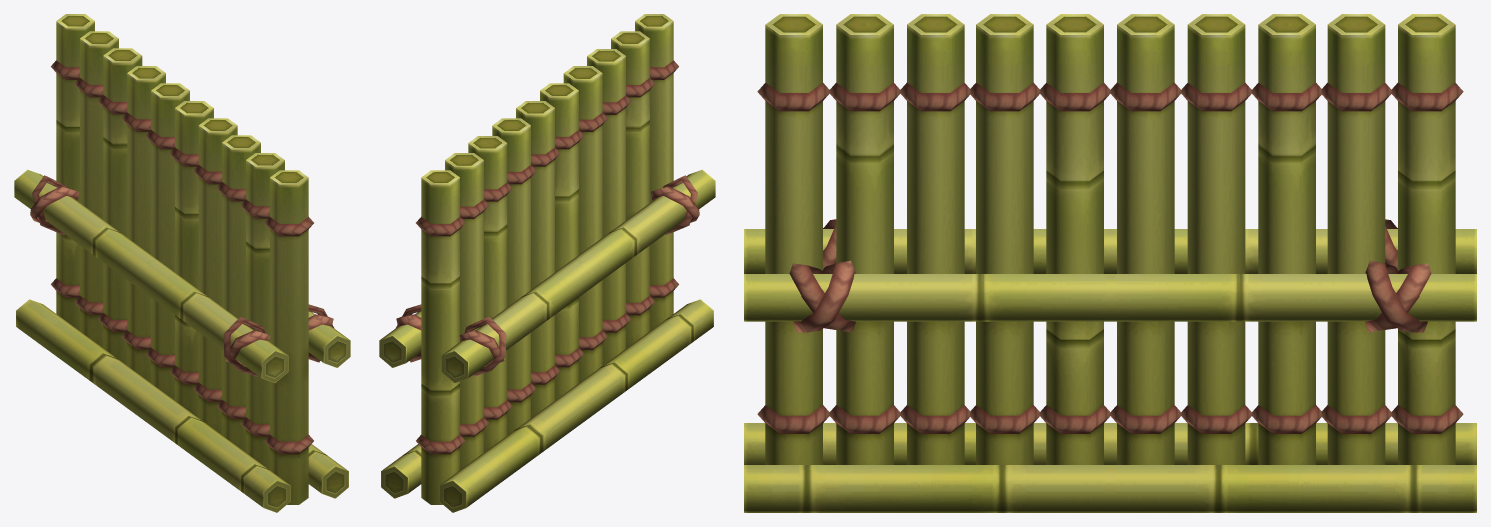
File: my_hyakkiyako_01_bamboofence_01.glb
3 views of the same model, side by side, from view 1: azimuth 30°, elevation 25°; view 2: azimuth 150°, elevation 25°; view 3: azimuth 270°, elevation 25° (orthographic). The views are drawn at different scales.
Visible parts, largest first — view 1: my_hyakkiyako_01_bamboofence_01; view 2: my_hyakkiyako_01_bamboofence_01; view 3: my_hyakkiyako_01_bamboofence_01.
Boxes of the visible parts, x1,y1,x2,y2 form: my_hyakkiyako_01_bamboofence_01: (14,14,350,512); my_hyakkiyako_01_bamboofence_01: (379,14,715,512); my_hyakkiyako_01_bamboofence_01: (744,14,1476,512).
Bounding box in the file's own units: 0.00254 × 0.00699 × 0.0098.
Materials: 1 (1 with a texture image).
